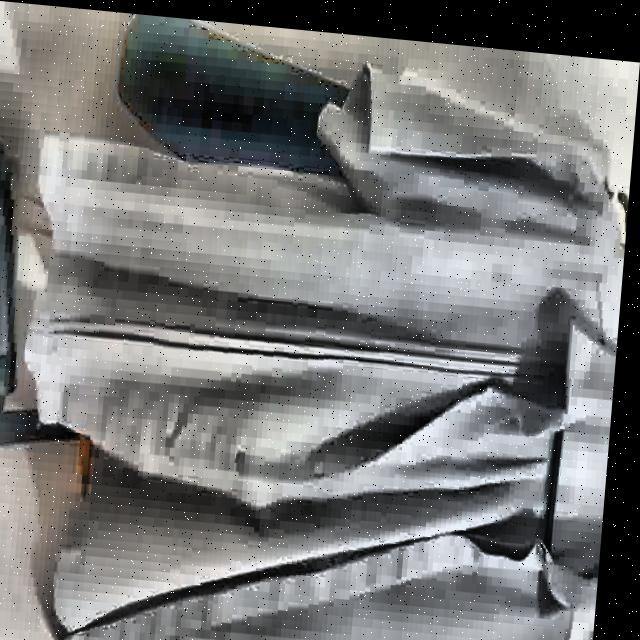clothes: (0, 26, 638, 640)
